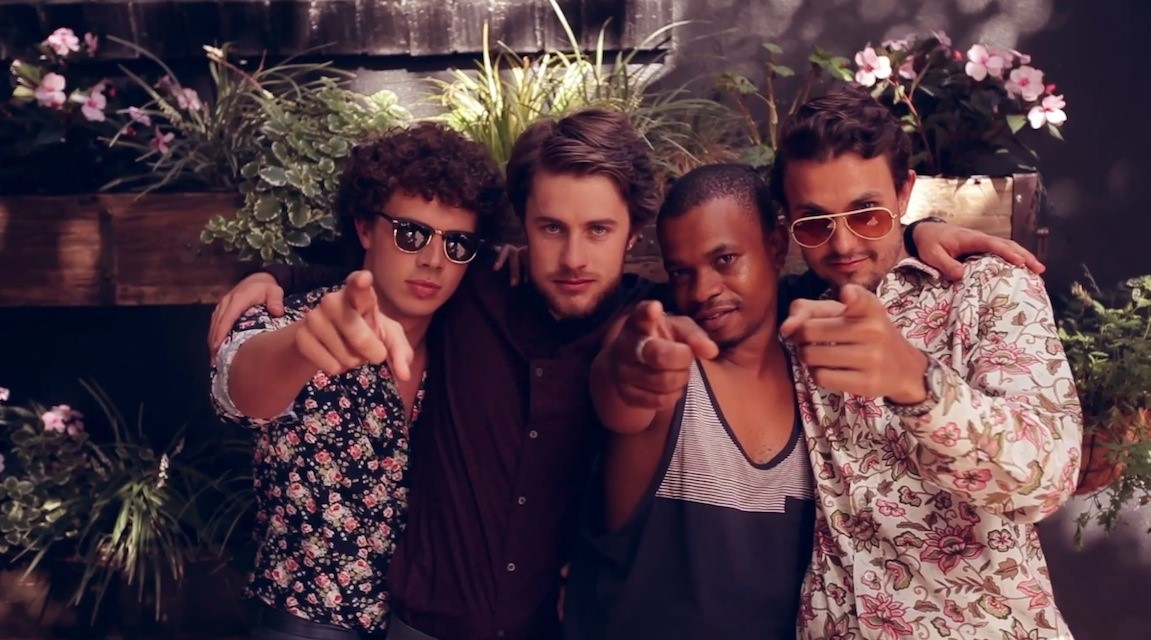face_no_mask: (778, 111, 920, 299), (513, 114, 644, 315), (652, 162, 788, 341), (353, 153, 478, 318)
